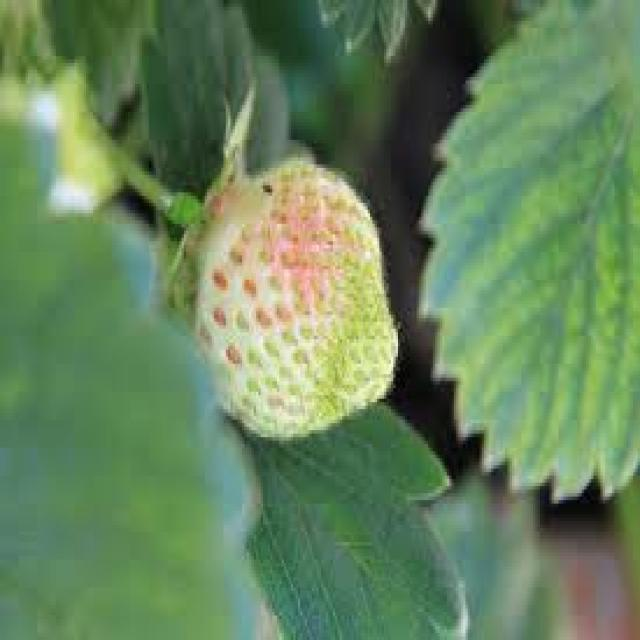immature: (198, 162, 400, 440)
